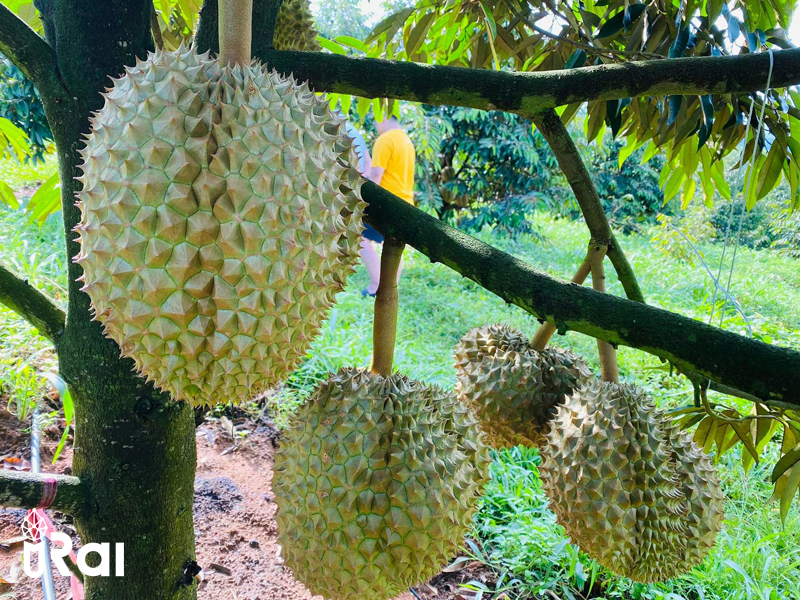sau_rieng: (67, 41, 363, 391), (460, 316, 741, 578)
